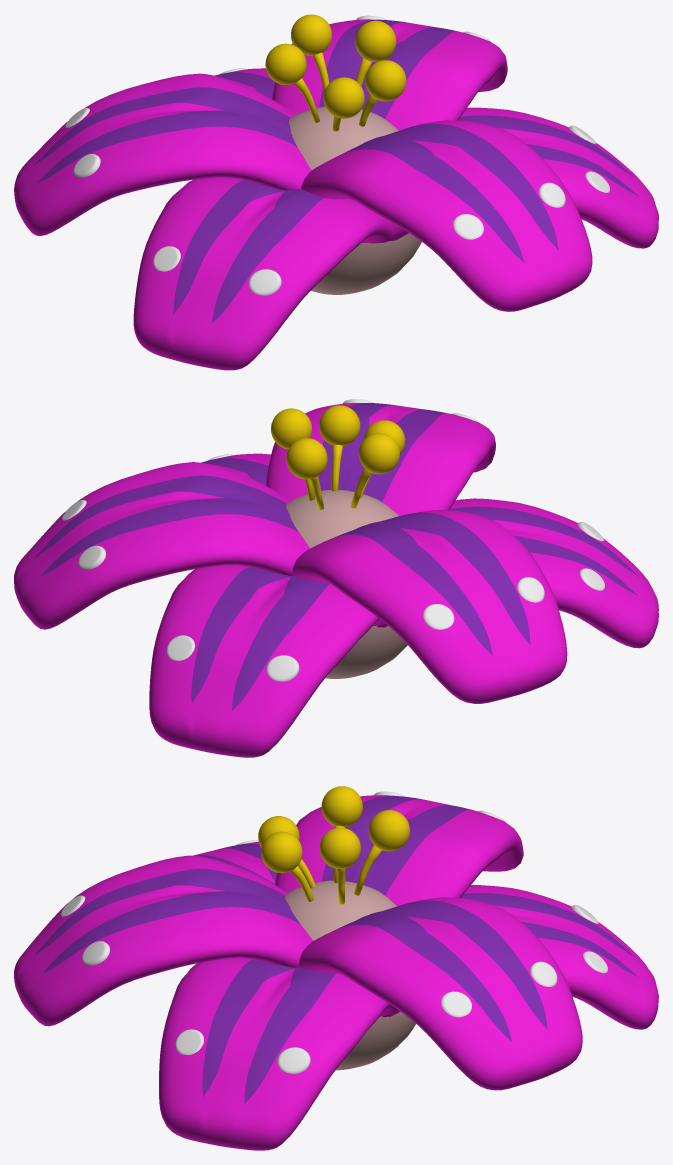
Rendered from cicek.fbx.
3 renders of one model, top to bottom at view 1: azimuth 30°, elevation 25°; view 2: azimuth 150°, elevation 25°; view 3: azimuth 270°, elevation 25°, orthographic.
Visible parts, largest first — view 1: cicek; view 2: cicek; view 3: cicek.
Boxes of the visible parts, x1,y1,x2,y2 form: cicek: (14,14,658,370); cicek: (14,399,658,757); cicek: (14,786,658,1150).
Size of the model in its own units: 99.16 by 103 by 44.26.
